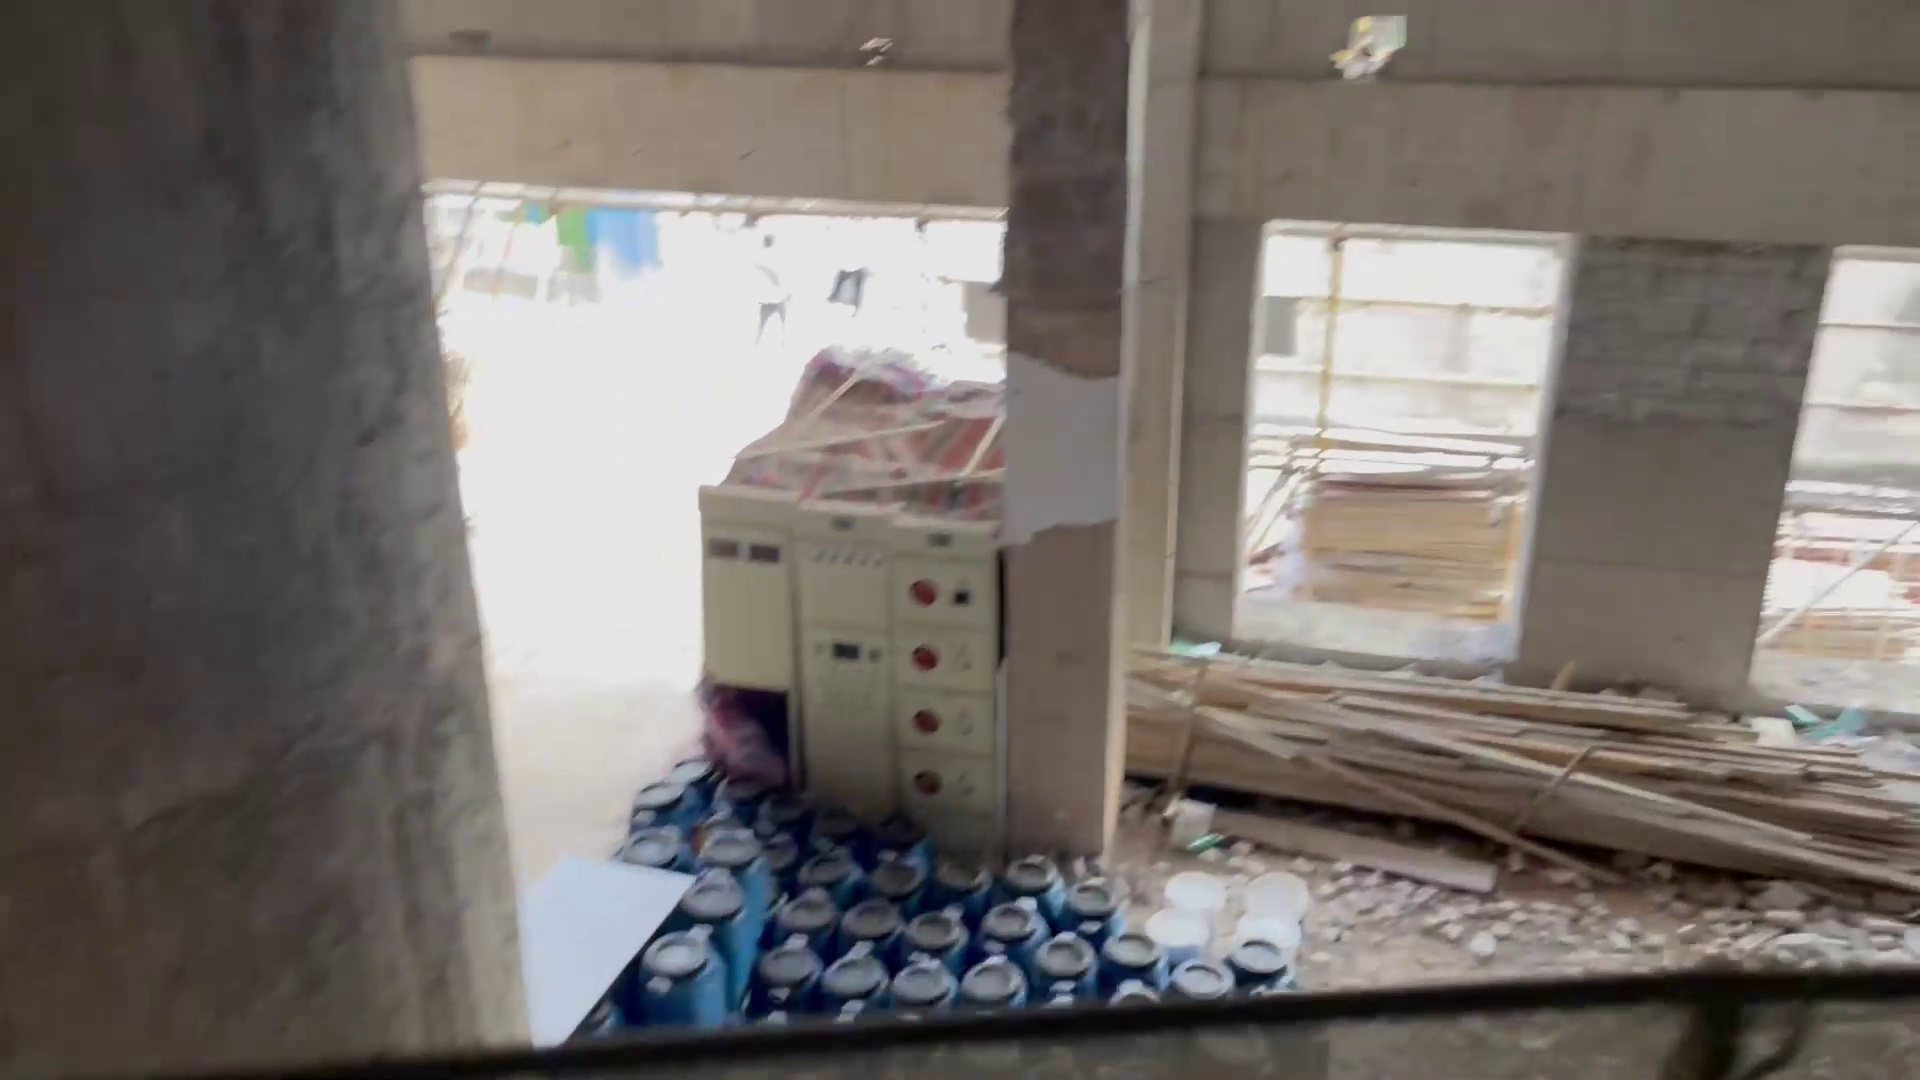board: (1299, 446, 1514, 621)
person: (735, 222, 797, 353)
wood: (1176, 639, 1914, 856), (1777, 560, 1914, 652)
